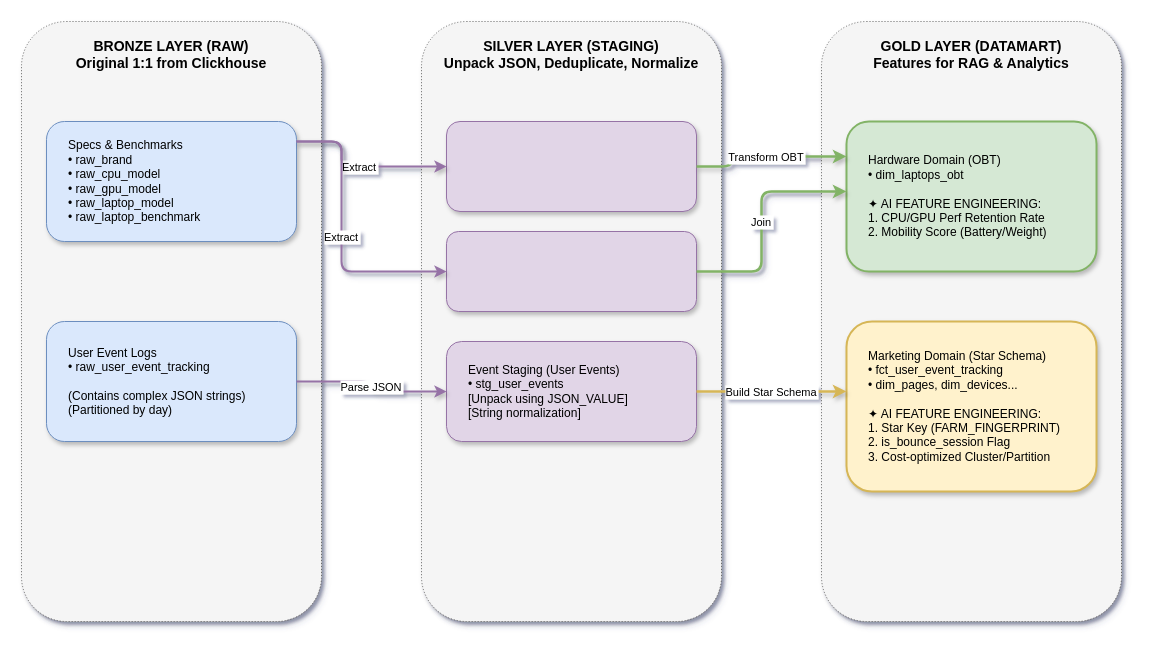
The diagram is 1151 pixels wide and 652 high, and some of its shapes have lost their labels. Each missing label, with the centre of its shape:
Benchmark Staging • stg_benchmarks [Deduplicate, keep latest test]: [572,272]
Hardware Staging • stg_brands, cpus, gpus • stg_laptops [Convert Nanoseconds]: [572,167]
